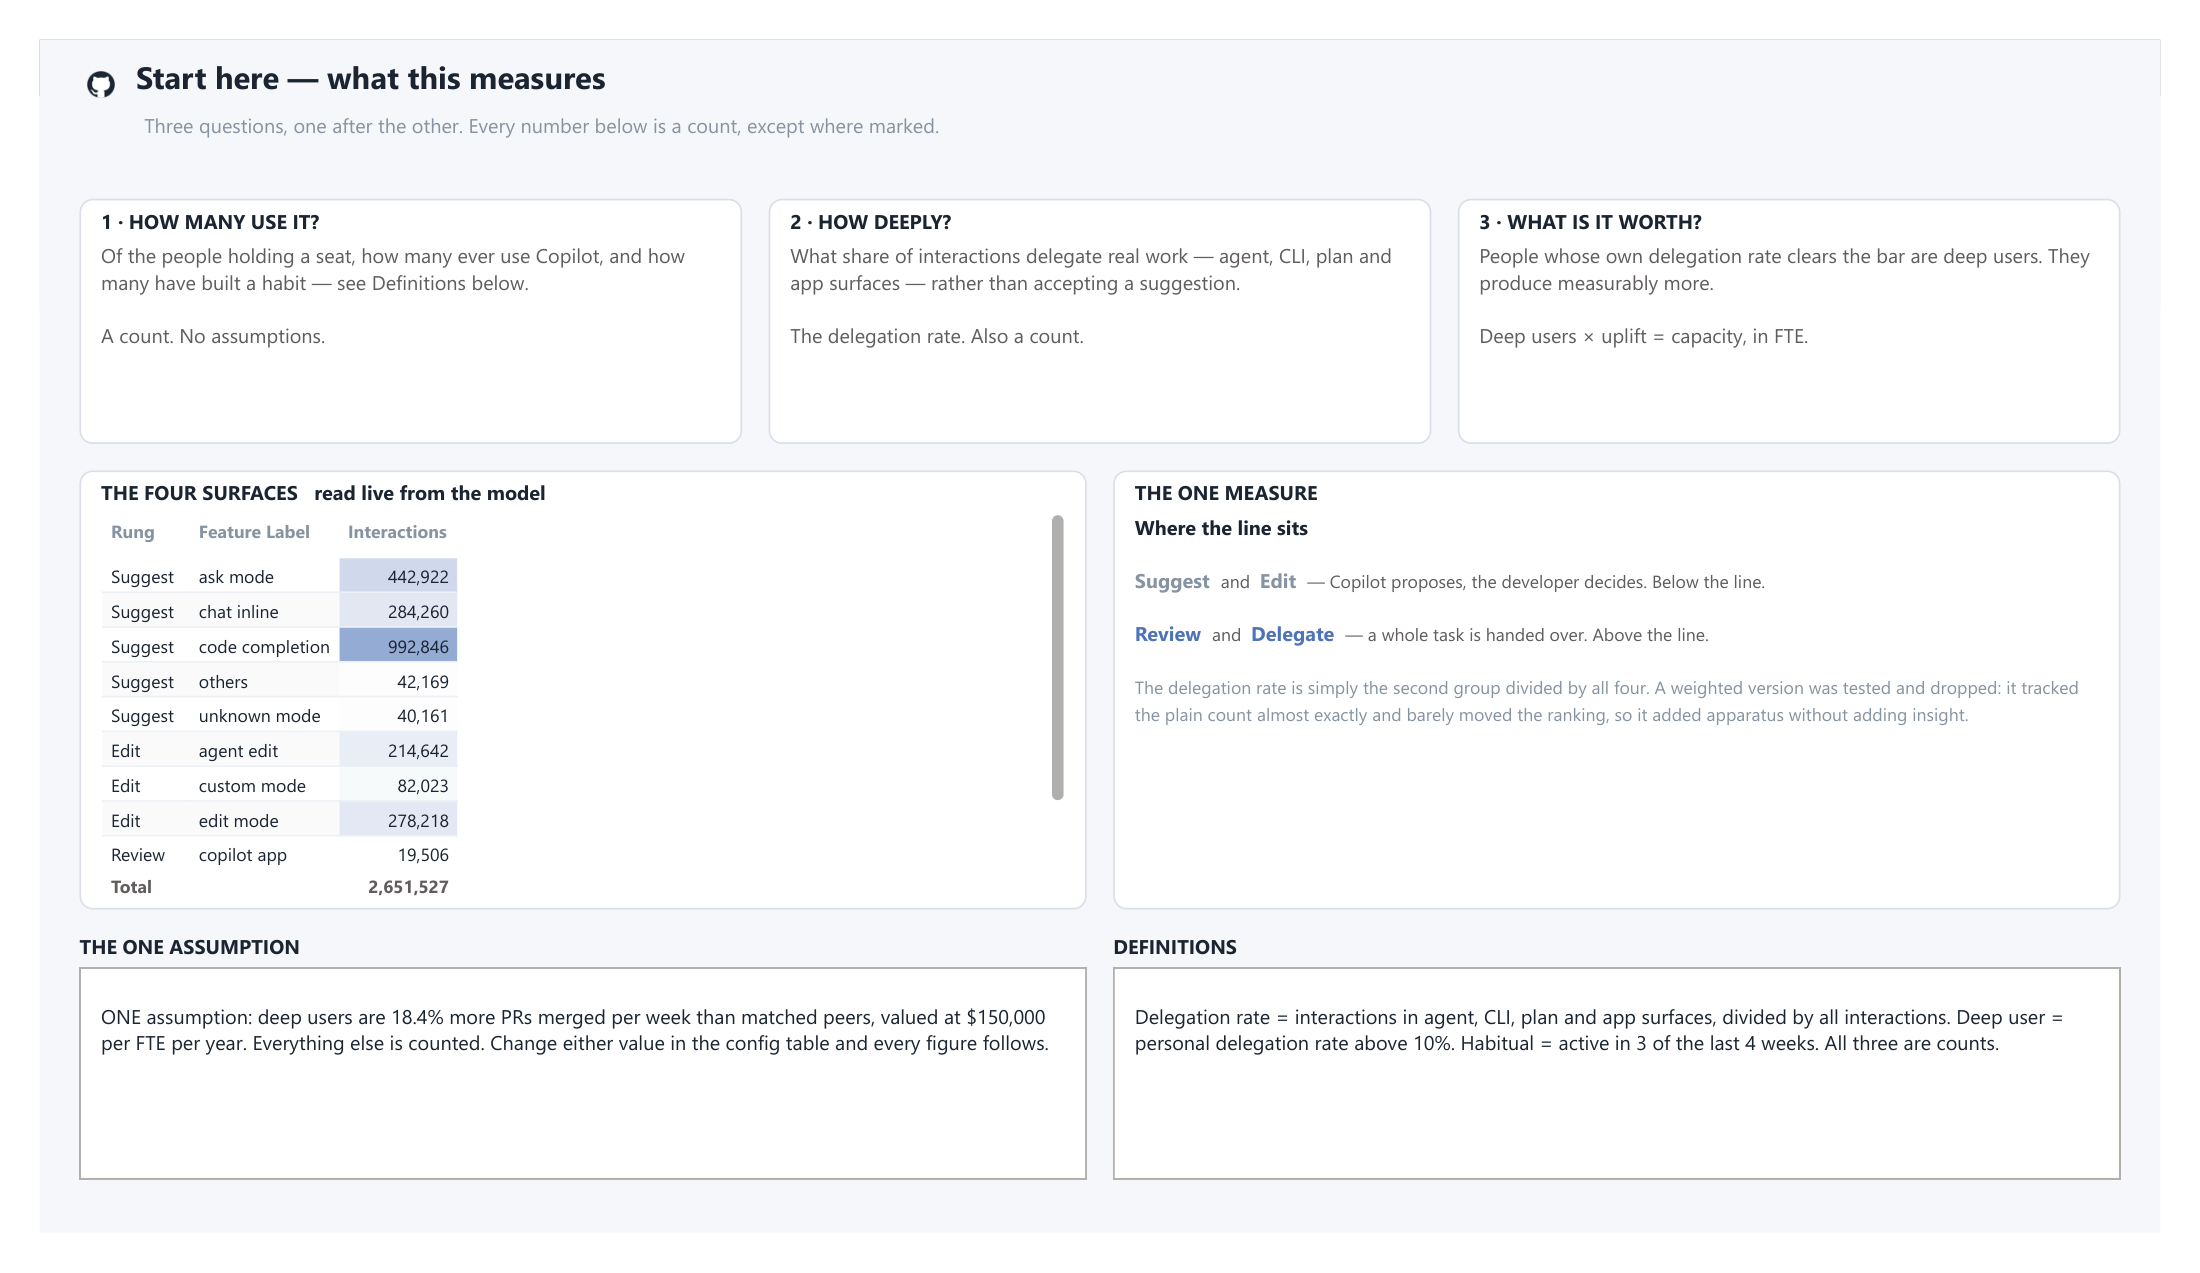

The page's visual inventory and layout, read from the dashboard file:
{"tool":"powerbi","page":{"name":"0 Start Here","canvas":[1280,720],"ordinal":0},"visuals":[{"type":"image","box":[24,14,26,26],"z":1100},{"type":"textbox","title":"Start here — what this measures","box":[58,10,560,28],"z":1200},{"type":"textbox","box":[24,80,1232,2],"z":1300},{"type":"textbox","box":[58,38,900,26],"z":1400},{"type":"textbox","title":"1 · HOW MANY USE IT?","box":[24,96,400,148],"z":1500},{"type":"textbox","title":"2 · HOW DEEPLY?","box":[440,96,400,148],"z":1600},{"type":"textbox","title":"3 · WHAT IS IT WORTH?","box":[856,96,400,148],"z":1700},{"type":"tableEx","title":"THE FOUR SURFACES   read live from the model","fields":{"Values":["Feature.Rung","Feature.Feature Label","_Measures.Interactions"]},"box":[24.2,259.7,607.7,265.2],"z":1800},{"type":"textbox","title":"THE ONE MEASURE","box":[647.8,259.7,608.7,265.2],"z":1900},{"type":"cardVisual","title":"THE ONE ASSUMPTION","fields":{"Data":["_Measures.Assumption Note"]},"box":[24.2,538.9,607.7,148.9],"z":2000},{"type":"cardVisual","title":"DEFINITIONS","fields":{"Data":["_Measures.Method Note"]},"box":[647.8,538.9,608.7,148.9],"z":2100}]}

Visuals, with their boxes in screenshot pixels (x1, y1, x2, y2), scaled from the page's 1280x720 canvas onto the 2200x1273 screenshot:
image: box(41, 25, 86, 71)
"Start here — what this measures" textbox: box(100, 18, 1062, 67)
textbox: box(41, 141, 2159, 145)
textbox: box(100, 67, 1647, 113)
"1 · HOW MANY USE IT?" textbox: box(41, 170, 729, 431)
"2 · HOW DEEPLY?" textbox: box(756, 170, 1444, 431)
"3 · WHAT IS IT WORTH?" textbox: box(1471, 170, 2159, 431)
"THE FOUR SURFACES   read live from the model" tableEx: box(42, 459, 1086, 928)
"THE ONE MEASURE" textbox: box(1113, 459, 2160, 928)
"THE ONE ASSUMPTION" cardVisual: box(42, 953, 1086, 1216)
"DEFINITIONS" cardVisual: box(1113, 953, 2160, 1216)
